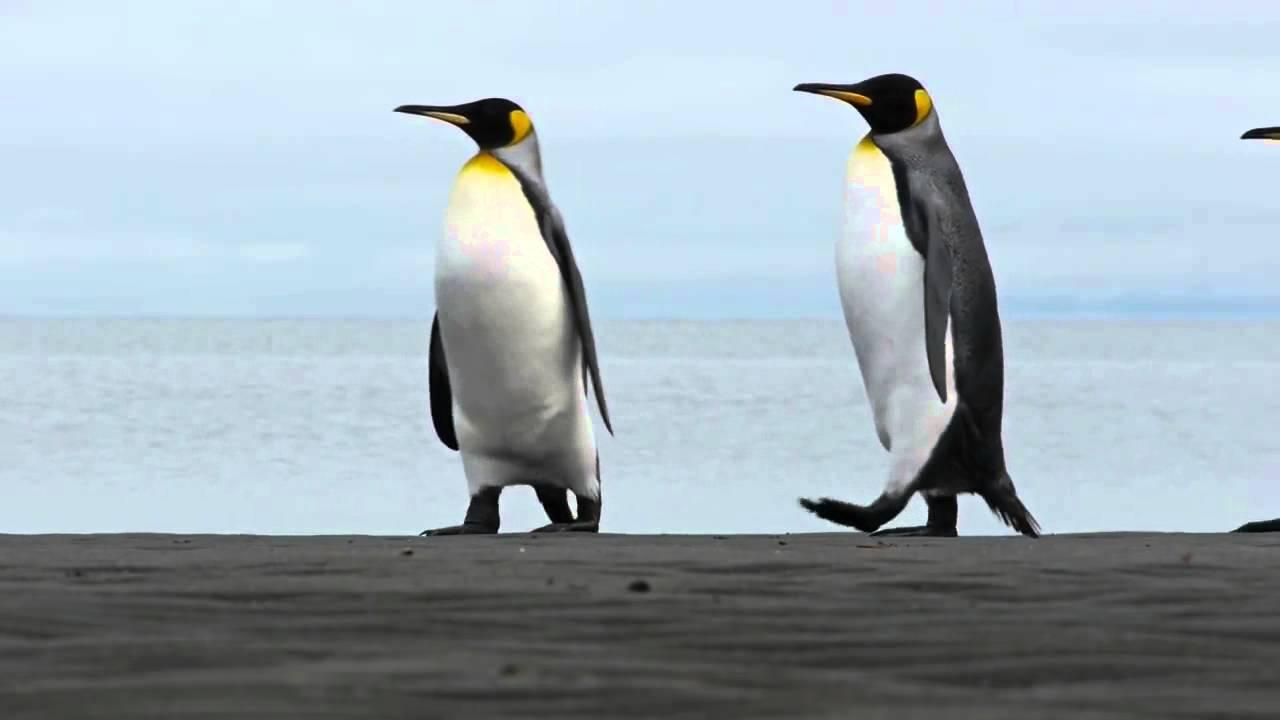king: (761, 43, 1062, 578), (371, 58, 638, 552)
